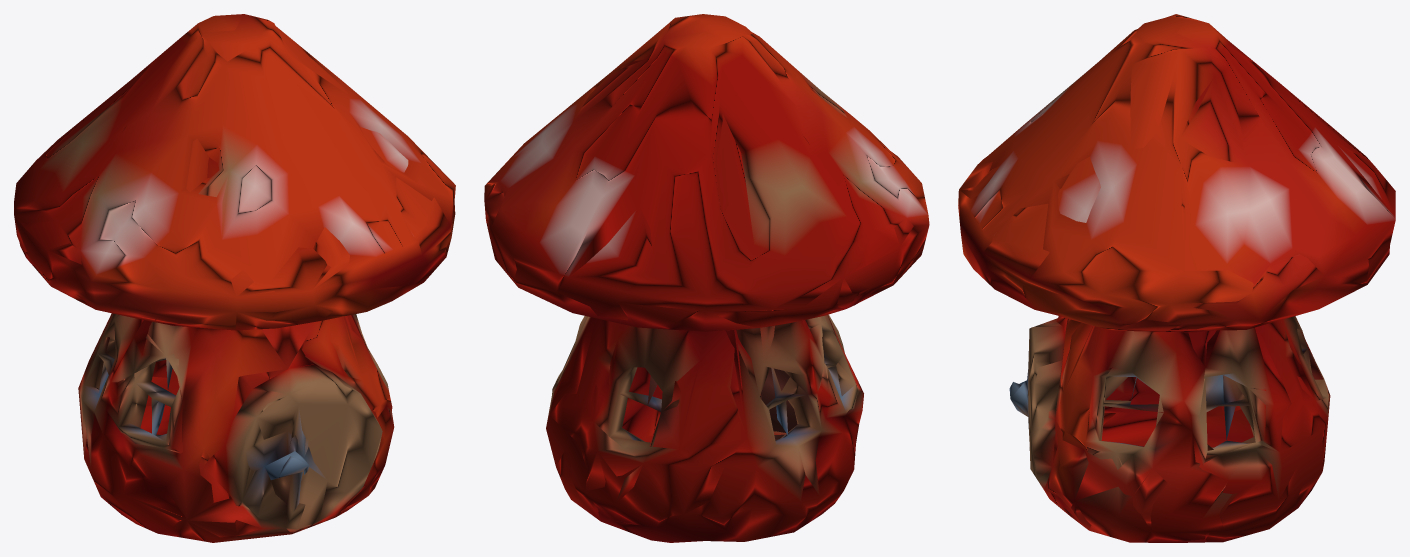
The model's file is gen3d-toadstool-house-lod0.glb.
3 views of the same model, side by side, from view 1: azimuth 30°, elevation 25°; view 2: azimuth 150°, elevation 25°; view 3: azimuth 270°, elevation 25° (orthographic).
Parts seen in each view (by area): view 1: part_0; view 2: part_0; view 3: part_0.
Part boxes in pixels (x1,y1,x2,y2): part_0: (14,14,455,542); part_0: (484,14,929,542); part_0: (958,14,1395,542).
Bounding box in the file's own units: 0.874 × 0.9985 × 0.8626.
